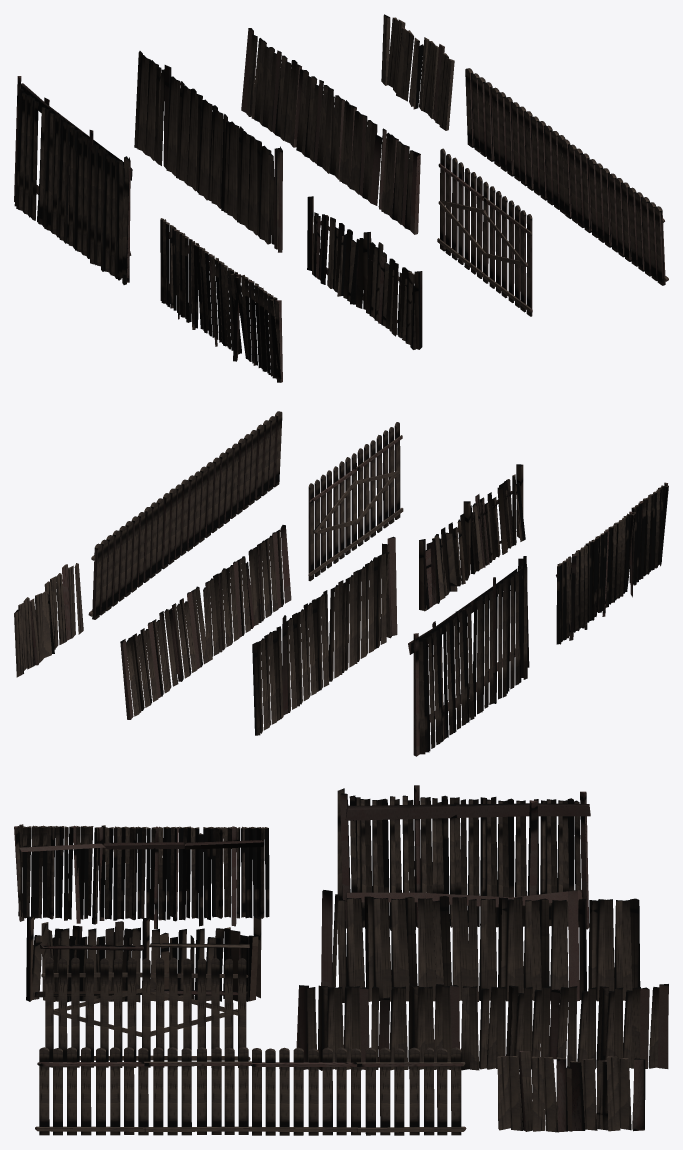
Rendered from Old_Wooden_Planks_Set.fbx.
3 views of the same model, one above another, from view 1: azimuth 30°, elevation 25°; view 2: azimuth 150°, elevation 25°; view 3: azimuth 270°, elevation 25° (orthographic). The views are drawn at different scales.
Visible parts, largest first — view 1: SM_Old_Wooden_Planks_2_LOD0, SM_Old_Wooden_Planks_1_LOD0, SM_Old_Wooden_Planks_3_LOD0, SM_Old_Wooden_Planks_4_LOD0, SM_Old_Wooden_Planks_5_LOD0, SM_Old_Wooden_Planks_7_LOD0, SM_Old_Wooden_Planks_6_LOD0, SM_Old_Wooden_Planks_8_LOD0; view 2: SM_Old_Wooden_Planks_2_LOD0, SM_Old_Wooden_Planks_4_LOD0, SM_Old_Wooden_Planks_3_LOD0, SM_Old_Wooden_Planks_1_LOD0, SM_Old_Wooden_Planks_7_LOD0, SM_Old_Wooden_Planks_5_LOD0, SM_Old_Wooden_Planks_6_LOD0, SM_Old_Wooden_Planks_8_LOD0; view 3: SM_Old_Wooden_Planks_2_LOD0, SM_Old_Wooden_Planks_3_LOD0, SM_Old_Wooden_Planks_4_LOD0, SM_Old_Wooden_Planks_1_LOD0, SM_Old_Wooden_Planks_5_LOD0, SM_Old_Wooden_Planks_7_LOD0, SM_Old_Wooden_Planks_6_LOD0, SM_Old_Wooden_Planks_8_LOD0.
Part boxes in pixels (x1,y1,x2,y2): SM_Old_Wooden_Planks_2_LOD0: (465,68,668,285); SM_Old_Wooden_Planks_1_LOD0: (241,28,420,234); SM_Old_Wooden_Planks_3_LOD0: (134,51,282,252); SM_Old_Wooden_Planks_4_LOD0: (14,76,132,284); SM_Old_Wooden_Planks_5_LOD0: (160,218,282,382); SM_Old_Wooden_Planks_7_LOD0: (437,148,532,316); SM_Old_Wooden_Planks_6_LOD0: (307,196,422,349); SM_Old_Wooden_Planks_8_LOD0: (381,14,454,130); SM_Old_Wooden_Planks_2_LOD0: (88,411,282,619); SM_Old_Wooden_Planks_4_LOD0: (408,556,529,756); SM_Old_Wooden_Planks_3_LOD0: (252,536,397,735); SM_Old_Wooden_Planks_1_LOD0: (120,525,291,719); SM_Old_Wooden_Planks_7_LOD0: (308,422,403,581); SM_Old_Wooden_Planks_5_LOD0: (556,482,668,644); SM_Old_Wooden_Planks_6_LOD0: (419,464,525,611); SM_Old_Wooden_Planks_8_LOD0: (14,563,83,677); SM_Old_Wooden_Planks_2_LOD0: (35,1047,466,1135); SM_Old_Wooden_Planks_3_LOD0: (321,890,640,1002); SM_Old_Wooden_Planks_4_LOD0: (337,785,590,930); SM_Old_Wooden_Planks_1_LOD0: (296,984,668,1070); SM_Old_Wooden_Planks_5_LOD0: (14,824,269,928); SM_Old_Wooden_Planks_7_LOD0: (41,957,250,1067); SM_Old_Wooden_Planks_6_LOD0: (26,916,261,1002); SM_Old_Wooden_Planks_8_LOD0: (497,1051,645,1132).
Size of the model in its own units: 317 by 98.48 by 405.
1 material, 1 textured.
